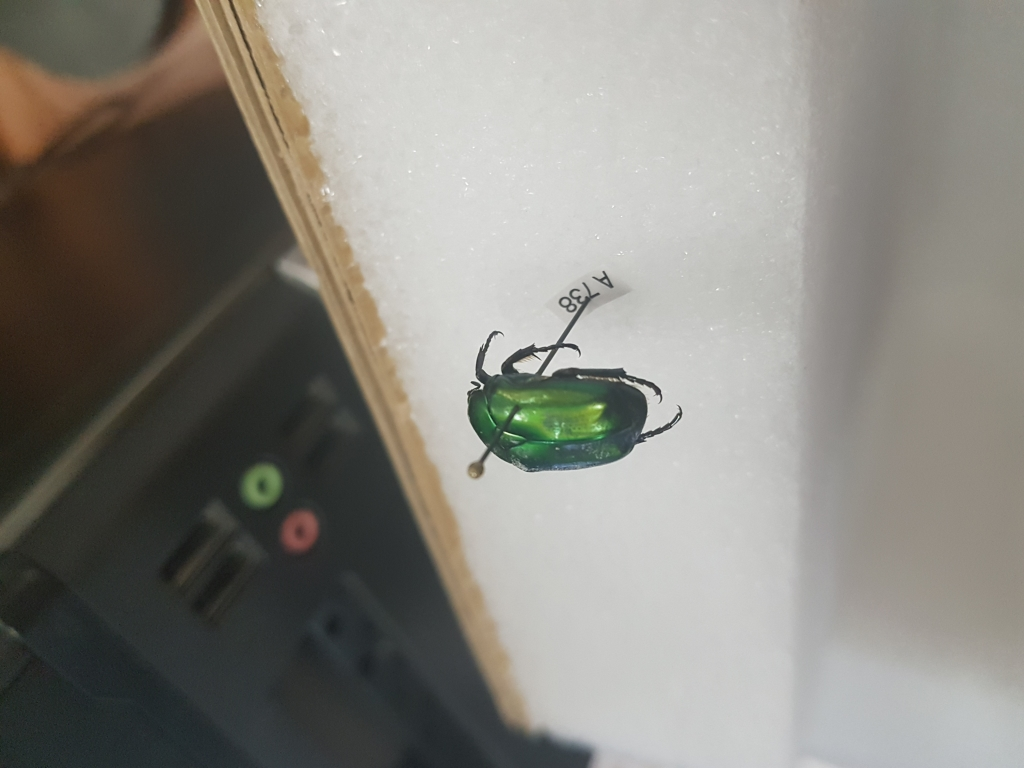Protaetia_cuprea_ignicollis: (462, 330, 688, 479)
